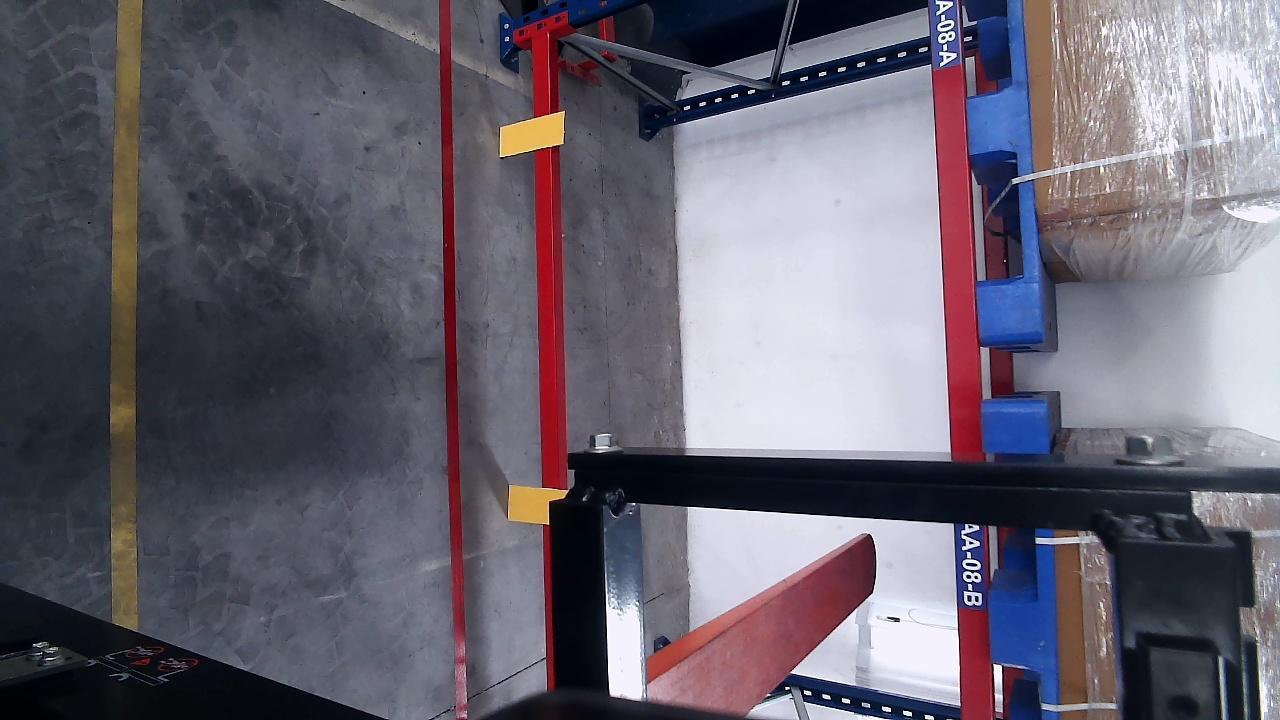h_rack: (925, 0, 991, 718), (528, 36, 564, 487)
orange_strip: (501, 111, 567, 155), (506, 487, 568, 524)
red_line: (435, 0, 473, 720)
small_pallet: (957, 0, 1045, 338), (981, 403, 1055, 718)
yellow_line: (111, 0, 142, 628)
